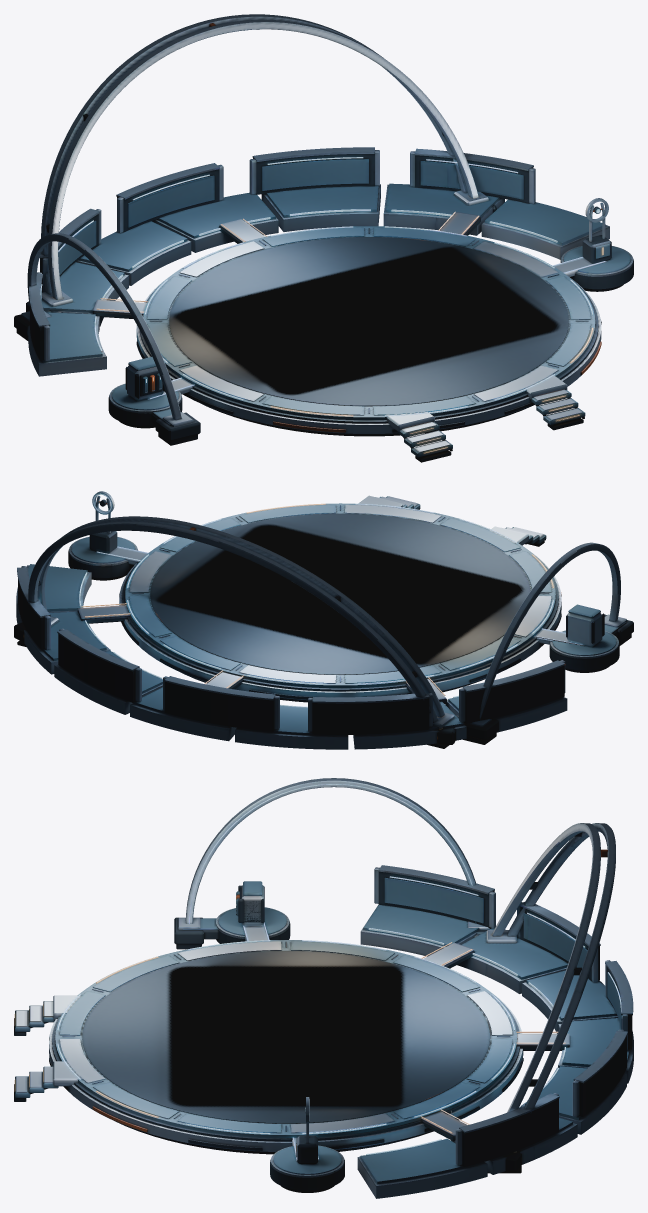
File: orbital-exterior-v6.glb
The picture shows the model from 3 angles, top to bottom: view 1: azimuth 30°, elevation 25°; view 2: azimuth 150°, elevation 25°; view 3: azimuth 270°, elevation 25°; orthographic projection. The views are drawn at different scales.
Parts seen in each view (by area): view 1: environment.orbital_dock__baked; view 2: environment.orbital_dock__baked; view 3: environment.orbital_dock__baked.
Boxes of the visible parts, <box> form: environment.orbital_dock__baked: <box>14,14,633,462</box>; environment.orbital_dock__baked: <box>14,491,633,749</box>; environment.orbital_dock__baked: <box>14,778,633,1198</box>.
Bounding box in the file's own units: 20.39 × 7.1 × 18.84.
Materials: 1 (1 with a texture image).
